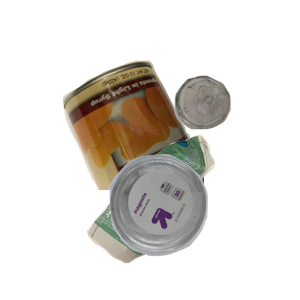glass: (172, 73, 300, 195)
metal: (60, 58, 300, 238)
plastic: (107, 152, 300, 300)
trash: (84, 133, 292, 300)
